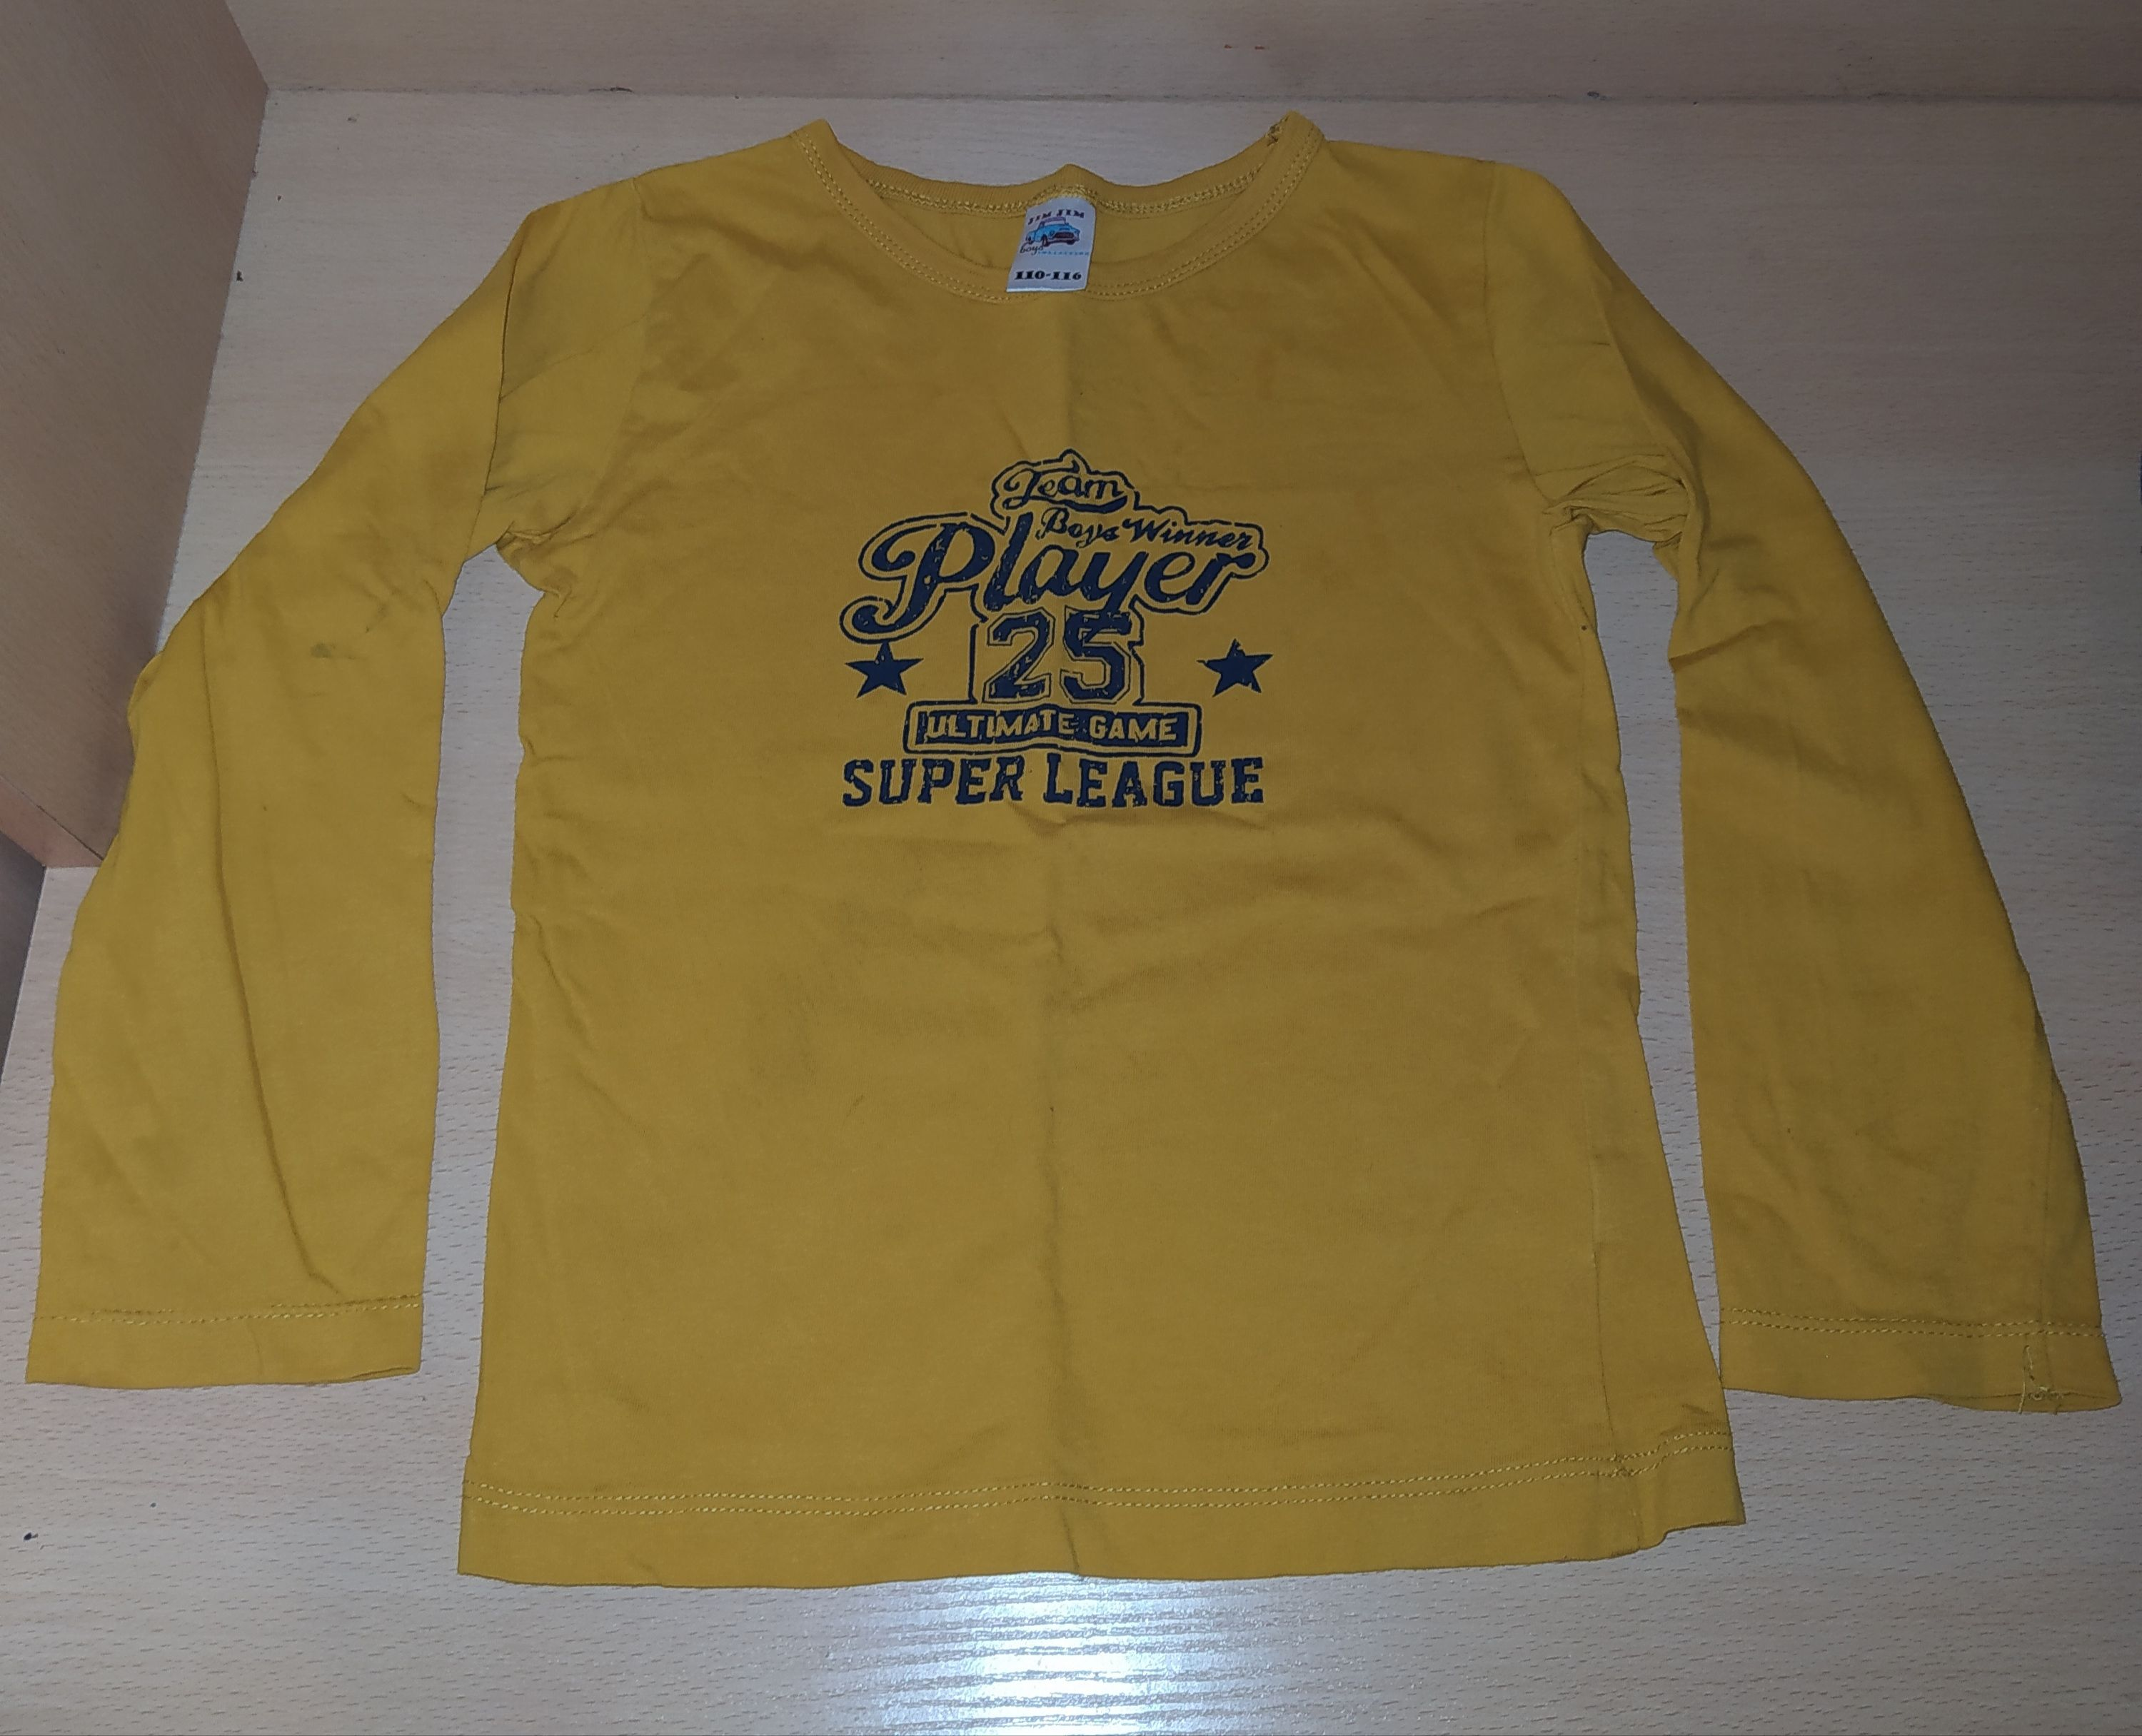clothes: (55, 113, 2142, 1587)
